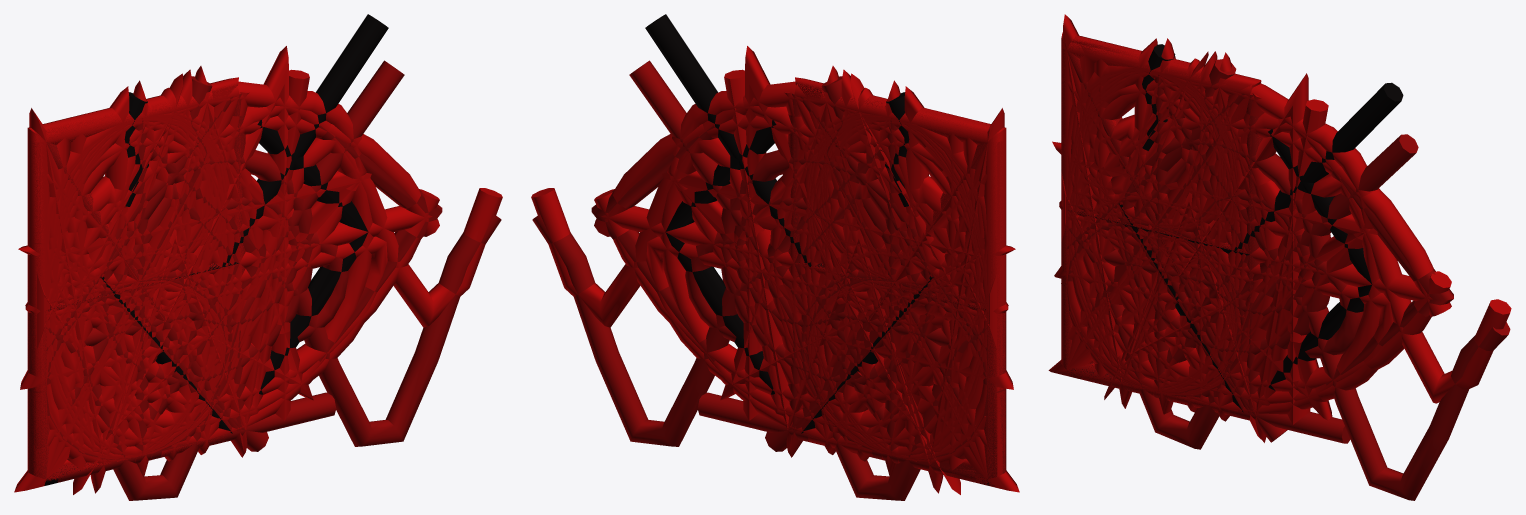
The model's file is neon_glyphs.glb.
The picture shows the model from 3 angles, left to right: view 1: azimuth 30°, elevation 25°; view 2: azimuth 150°, elevation 25°; view 3: azimuth 330°, elevation 25°; orthographic projection. The views are drawn at different scales.
Visible parts, largest first — view 1: g_wave, g_bowl, g_ring, g_eye, g_star, g_B, g_chevron, g_heart, g_cup, g_diamond, g_D, g_arrow (+34 smaller); view 2: g_wave, g_bowl, g_ring, g_eye, g_B, g_star, g_chevron, g_heart, g_cup, g_diamond, g_arrow, g_D (+34 smaller); view 3: g_wave, g_bowl, g_ring, g_eye, g_star, g_heart, g_chevron, g_cup, g_diamond, g_W, g_arrow, g_M (+33 smaller).
Part boxes in pixels (x1,y1,x2,y2): g_wave: [46, 138, 502, 500]; g_bowl: [60, 14, 404, 463]; g_ring: [46, 81, 373, 445]; g_eye: [37, 115, 439, 406]; g_star: [18, 66, 371, 439]; g_B: [27, 108, 234, 482]; g_chevron: [46, 120, 368, 445]; g_heart: [49, 91, 366, 454]; g_cup: [59, 76, 348, 451]; g_diamond: [25, 87, 304, 461]; g_D: [27, 112, 234, 479]; g_arrow: [46, 125, 442, 361]; g_wave: [531, 138, 987, 500]; g_bowl: [629, 14, 973, 448]; g_ring: [660, 81, 987, 445]; g_eye: [594, 115, 996, 406]; g_B: [799, 109, 1006, 487]; g_star: [662, 66, 1015, 439]; g_chevron: [665, 120, 987, 445]; g_heart: [667, 91, 984, 454]; g_cup: [685, 76, 974, 451]; g_diamond: [729, 87, 1008, 461]; g_arrow: [591, 125, 987, 361]; g_D: [799, 108, 1006, 487]; g_wave: [1067, 114, 1511, 500]; g_bowl: [1081, 82, 1418, 443]; g_ring: [1067, 80, 1380, 414]; g_eye: [1061, 118, 1451, 391]; g_star: [1052, 52, 1377, 420]; g_heart: [1071, 84, 1373, 421]; g_chevron: [1067, 81, 1372, 390]; g_cup: [1081, 44, 1363, 405]; g_diamond: [1059, 58, 1313, 412]; g_W: [1067, 52, 1328, 442]; g_arrow: [1067, 161, 1453, 385]; g_M: [1063, 14, 1310, 424].
Bounding box in the file's own units: 1.51 × 1.29 × 0.068.
